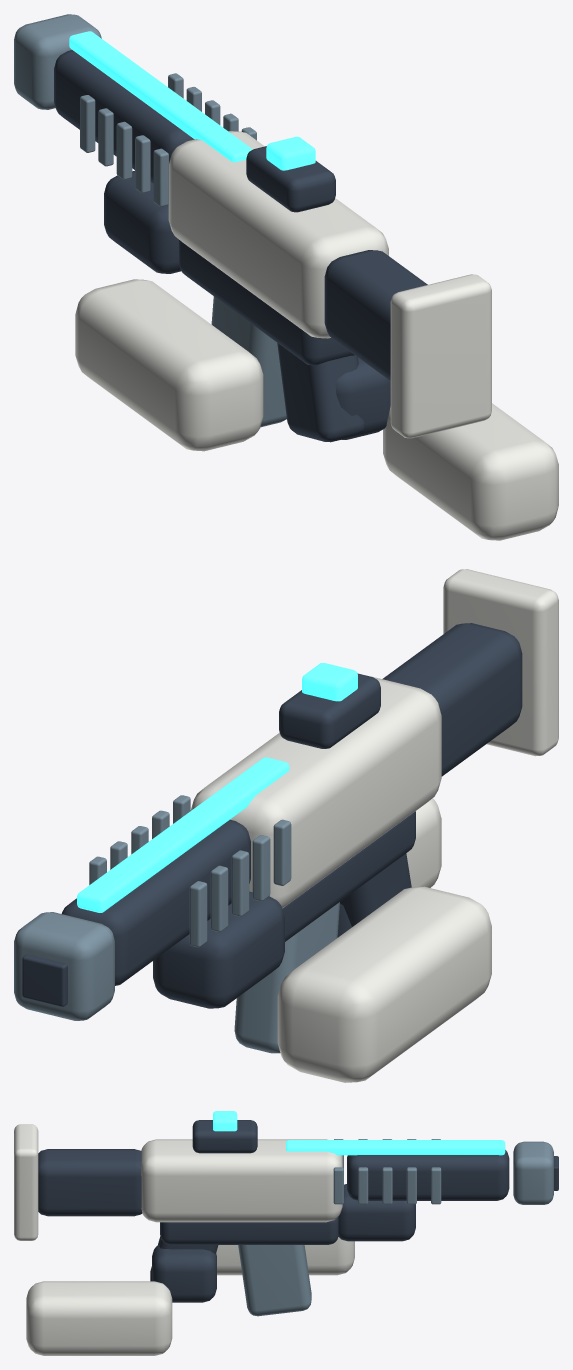
Rendered from vector-r9.glb.
3 views of the same model, one above another, from view 1: azimuth 30°, elevation 25°; view 2: azimuth 150°, elevation 25°; view 3: azimuth 270°, elevation 25° (orthographic). The views are drawn at different scales.
Parts seen in each view (by area): view 1: receiver; view 2: receiver; view 3: receiver.
Boxes of the visible parts, box(x1,y1,x2,y2) form: receiver: box(14, 14, 558, 540); receiver: box(14, 569, 558, 1082); receiver: box(14, 1111, 558, 1355).
Size of the model in its own units: 0.48 by 0.5575 by 1.34.
